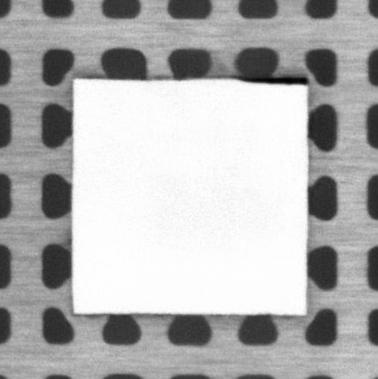DIE_BROKEN: (237, 73, 309, 86)
